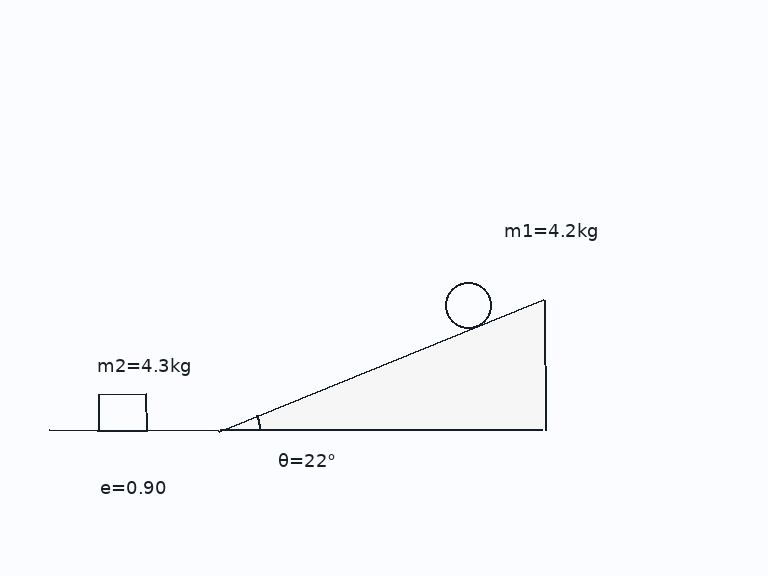ball: (443, 280, 493, 330)
block: (96, 392, 148, 432)
ramp: (218, 297, 546, 432)
